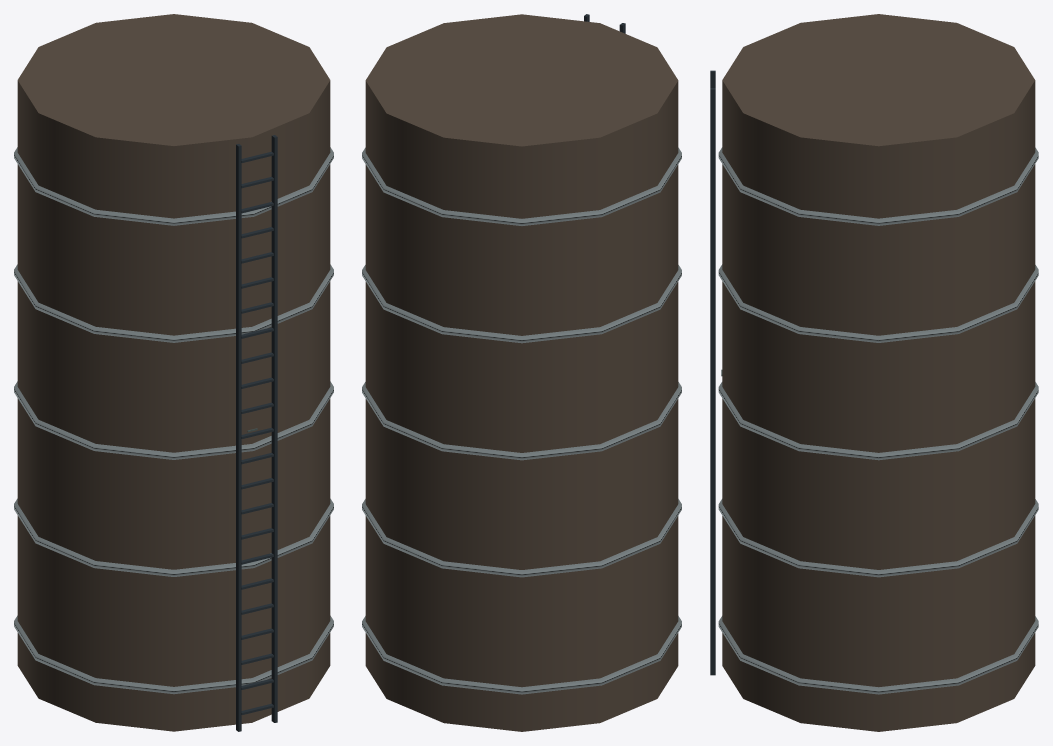
The model's file is silo-3.glb.
The picture shows the model from 3 angles, left to right: view 1: azimuth 30°, elevation 25°; view 2: azimuth 150°, elevation 25°; view 3: azimuth 270°, elevation 25°; orthographic projection.
Visible parts, largest first — view 1: silo/2/KR-230-3; view 2: silo/2/KR-230-3; view 3: silo/2/KR-230-3.
Boxes of the visible parts, left/top/right/bottom form: silo/2/KR-230-3: left=14, top=14, right=333, bottom=731; silo/2/KR-230-3: left=362, top=14, right=681, bottom=731; silo/2/KR-230-3: left=710, top=14, right=1038, bottom=731.
Bounding box in the file's own units: 6.93 × 14 × 7.12.
